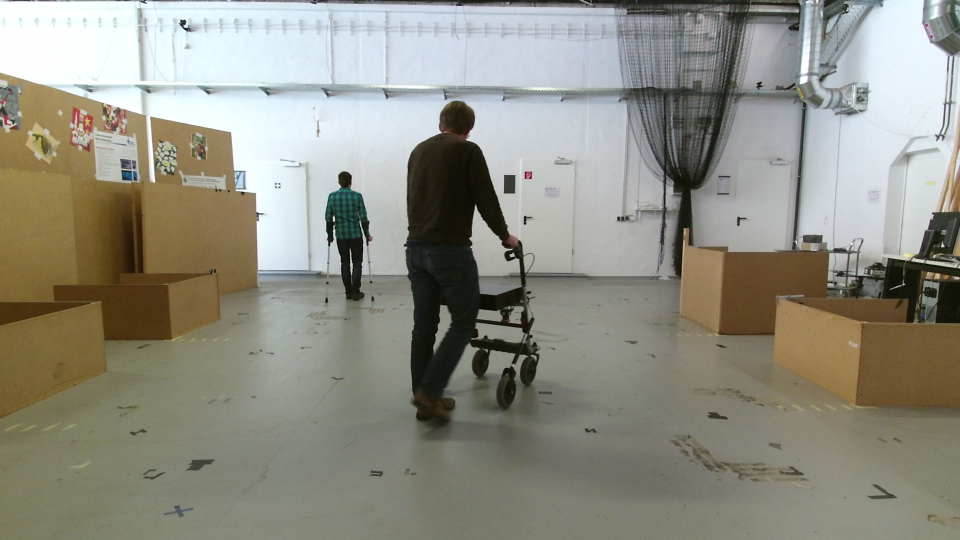crutches: (317, 157, 377, 312)
